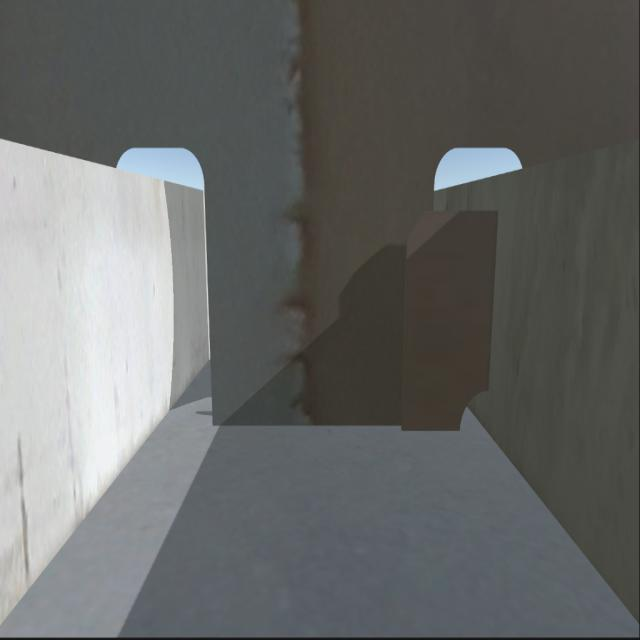fillet_hole: (456, 386, 490, 434)
fillet_yong_jeop_jang: (215, 414, 465, 430)
longi_yong_jeop_jang: (483, 214, 501, 386)
plate_CP03: (401, 205, 493, 426)
